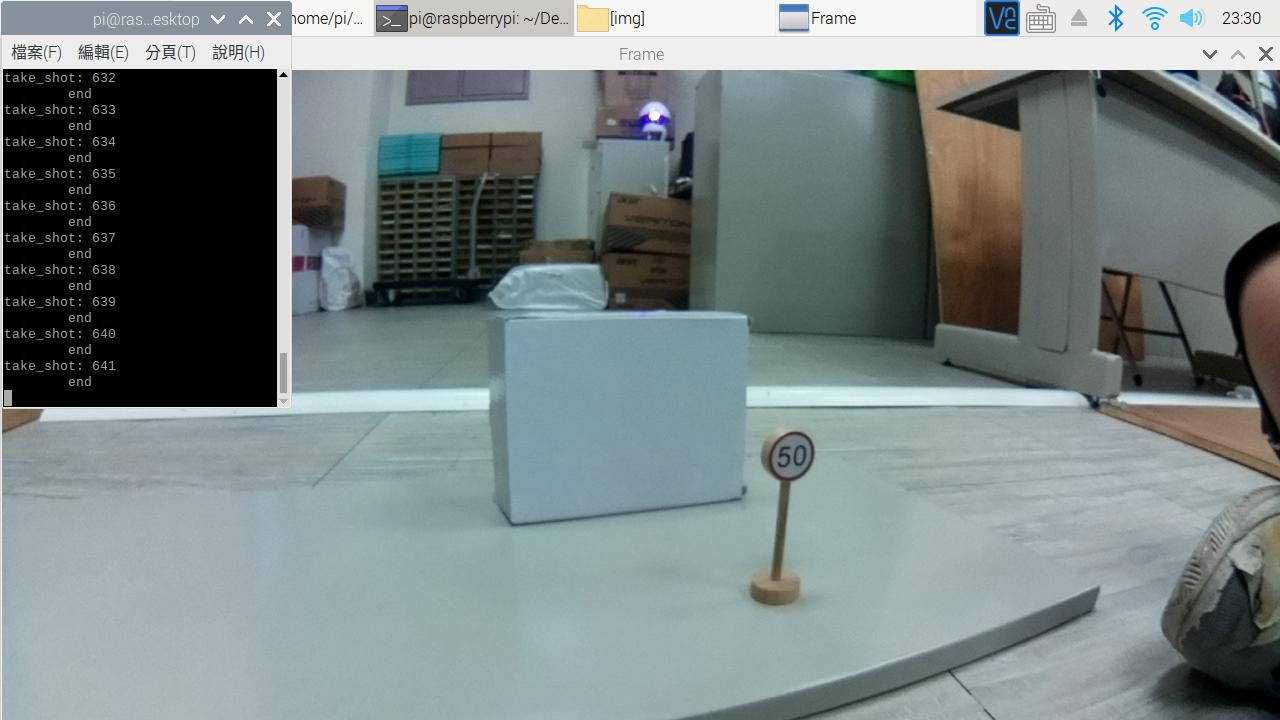Speed50: (753, 418, 831, 488)
